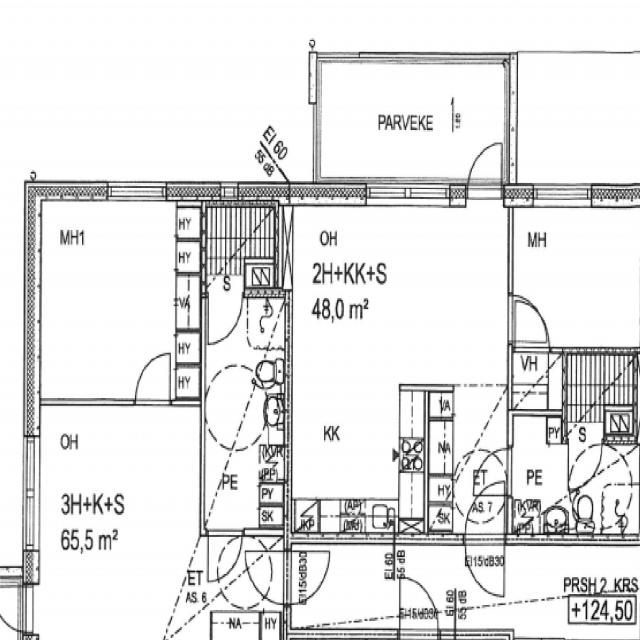door: (464, 534, 504, 600), (464, 482, 504, 546), (467, 137, 501, 206), (473, 449, 513, 495), (569, 435, 601, 489), (507, 298, 546, 342), (516, 304, 548, 352)
